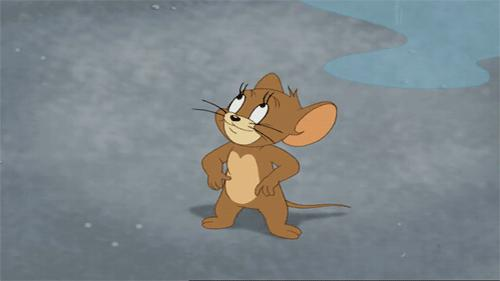jerry: (200, 71, 352, 239)
